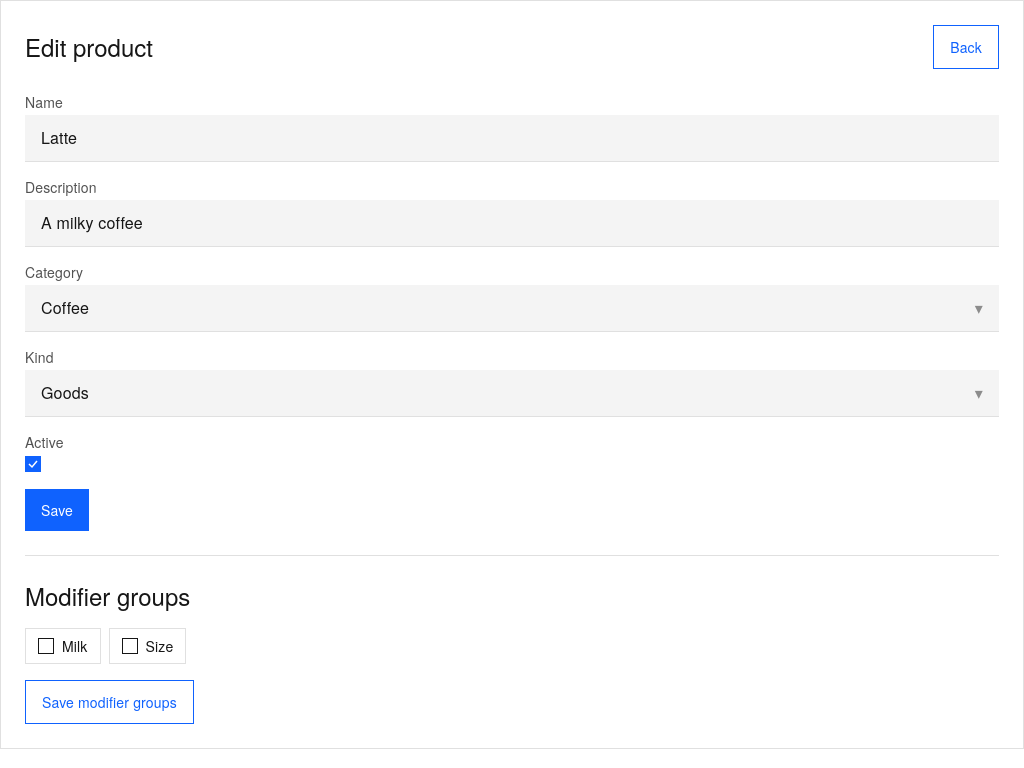
ProductEditor › cancelling the archive ConfirmDialog blocks the save
The width and height of the screenshot is (1024, 768).
Click the checkbox named "active" below "Active" at coordinates (33, 464), box [25, 456, 41, 472]
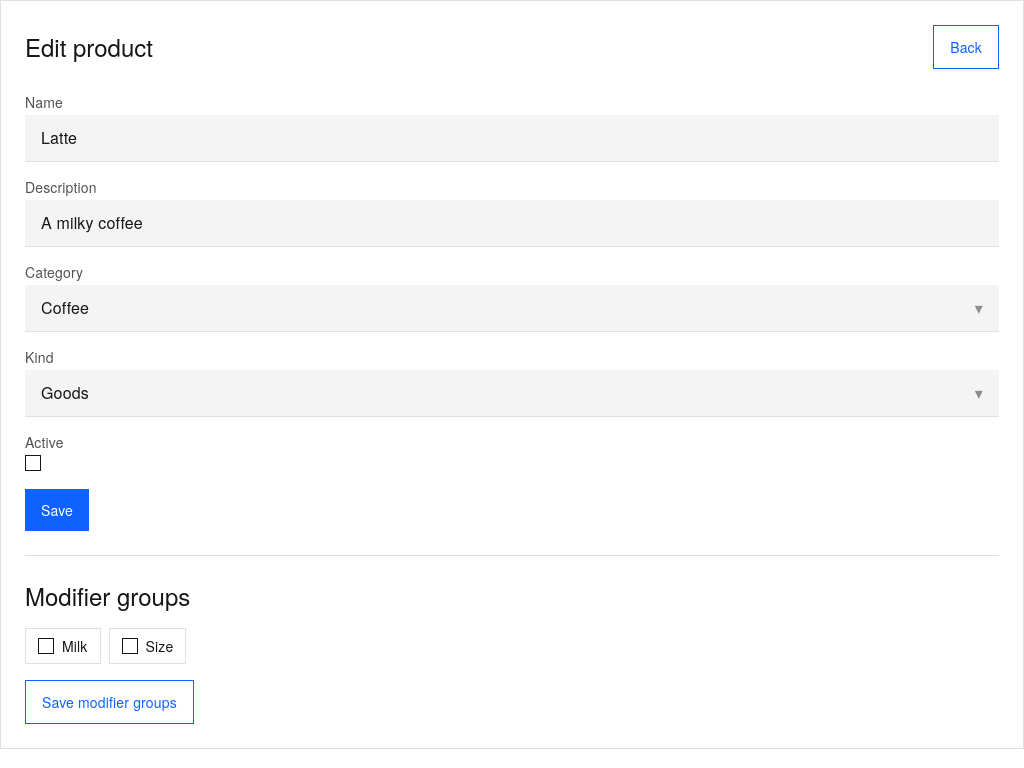
Click the button "Save" at coordinates (57, 510), box [25, 489, 89, 531]
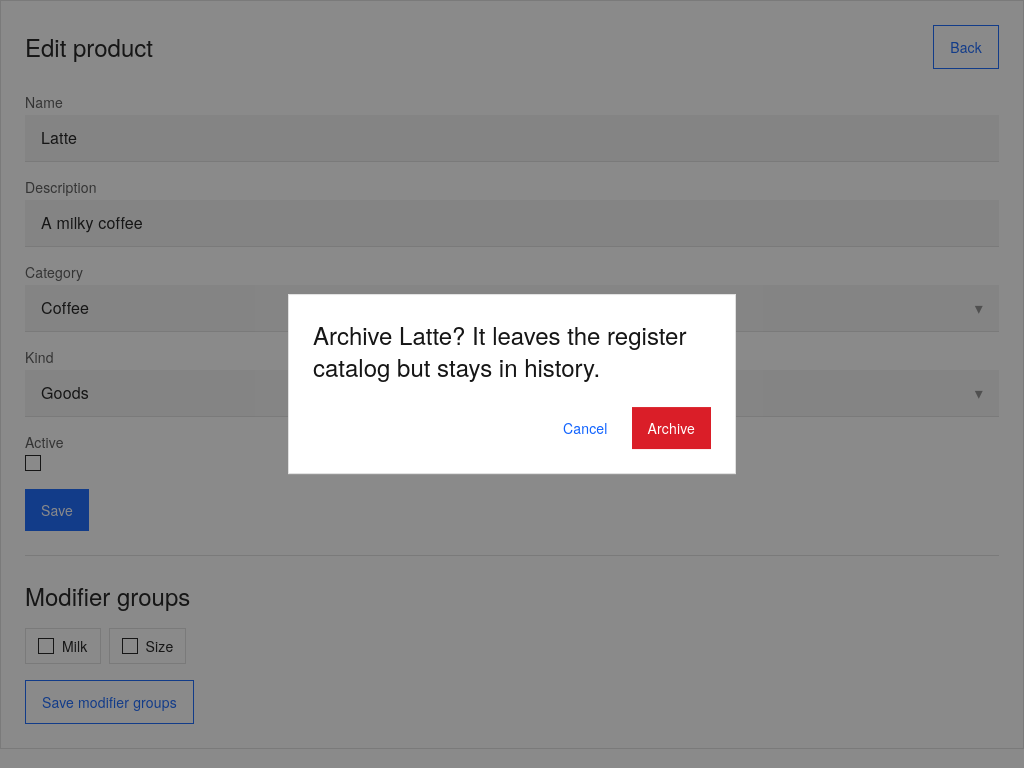
Expected: the heading "Archive Latte? It leaves the register catalog but stays in history." is shown, [313, 319, 711, 383]
Click the button "Cancel" at coordinates (585, 428), box [547, 407, 624, 449]
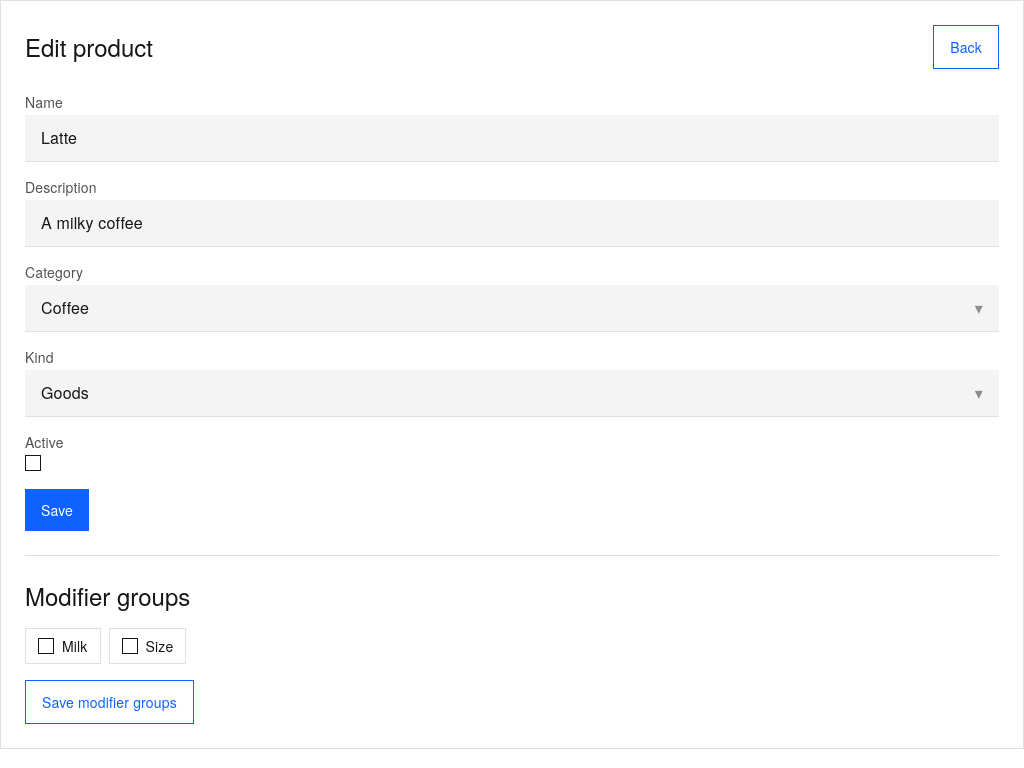
Expected: the dialog is gone
